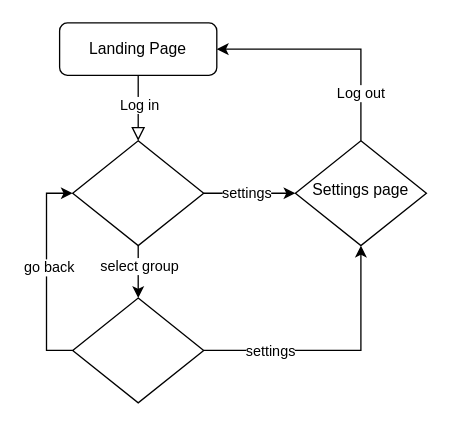
The diagram is 449 pixels wide and 426 high, and some of its shapes have lost their labels. Each missing label, with the box of its shape:
Groups page: (71, 140, 204, 246)
Messages: (71, 297, 204, 403)
